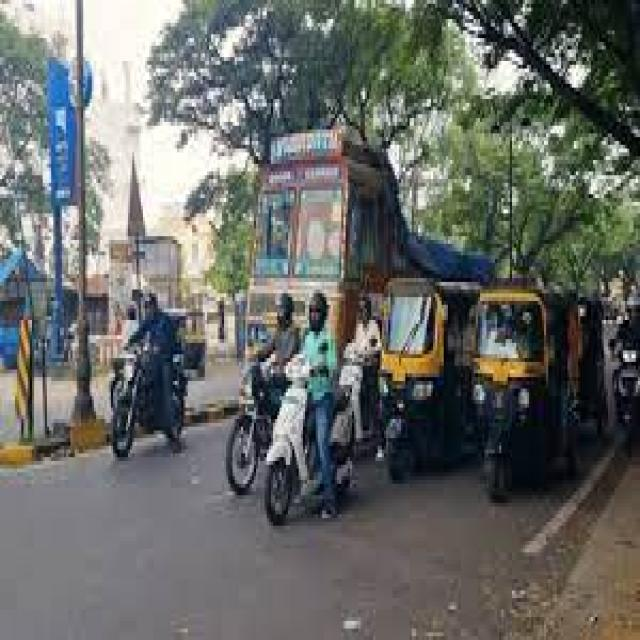Vehicles: (257, 148, 408, 374), (469, 282, 584, 528), (382, 263, 485, 530), (266, 353, 370, 543), (118, 345, 185, 463), (222, 364, 294, 472)
